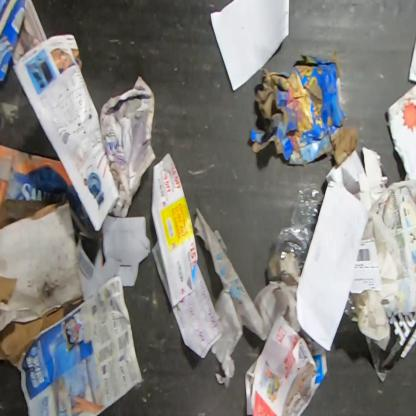cardboard: (0, 198, 83, 368), (250, 52, 358, 168), (0, 144, 102, 245), (363, 312, 416, 384), (102, 215, 151, 287), (76, 234, 122, 301), (0, 0, 27, 82)
soft_plastic: (194, 207, 302, 391), (271, 182, 325, 275), (344, 292, 356, 317)
